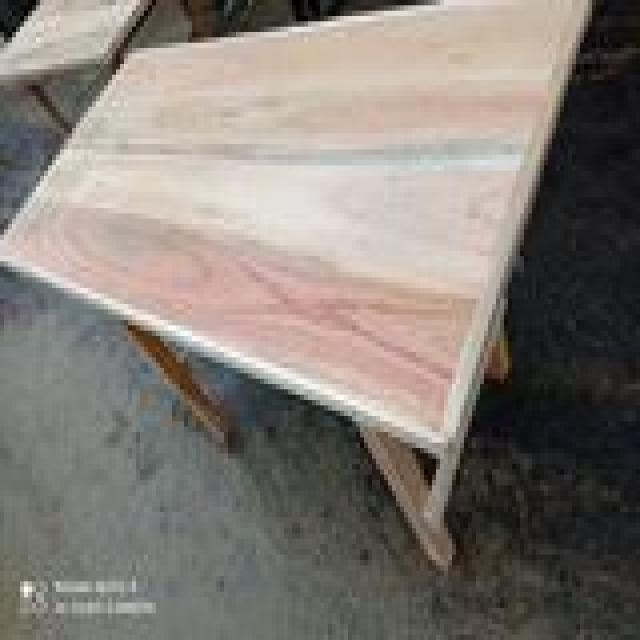others: (4, 5, 628, 555)
